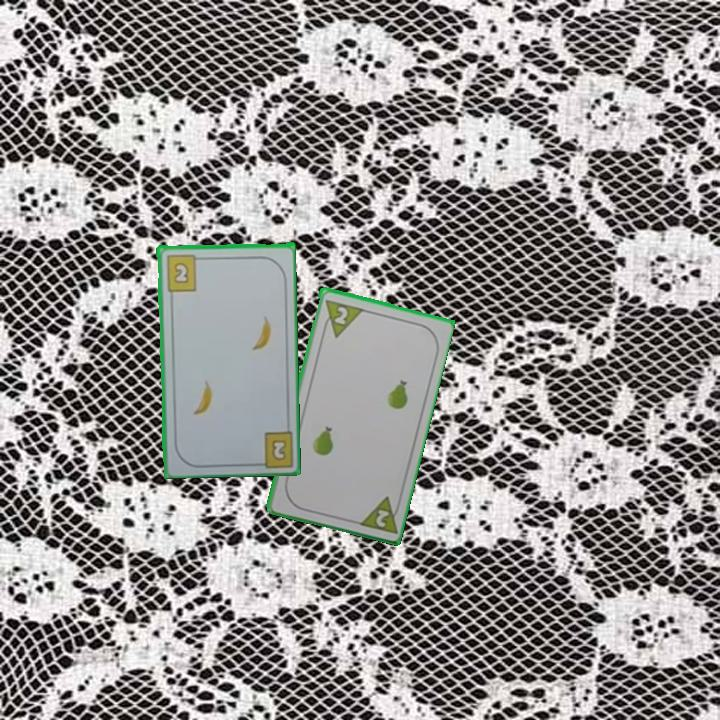2b: (163, 251, 205, 293), (268, 435, 289, 463)
2p: (318, 295, 365, 340), (372, 505, 392, 530)
